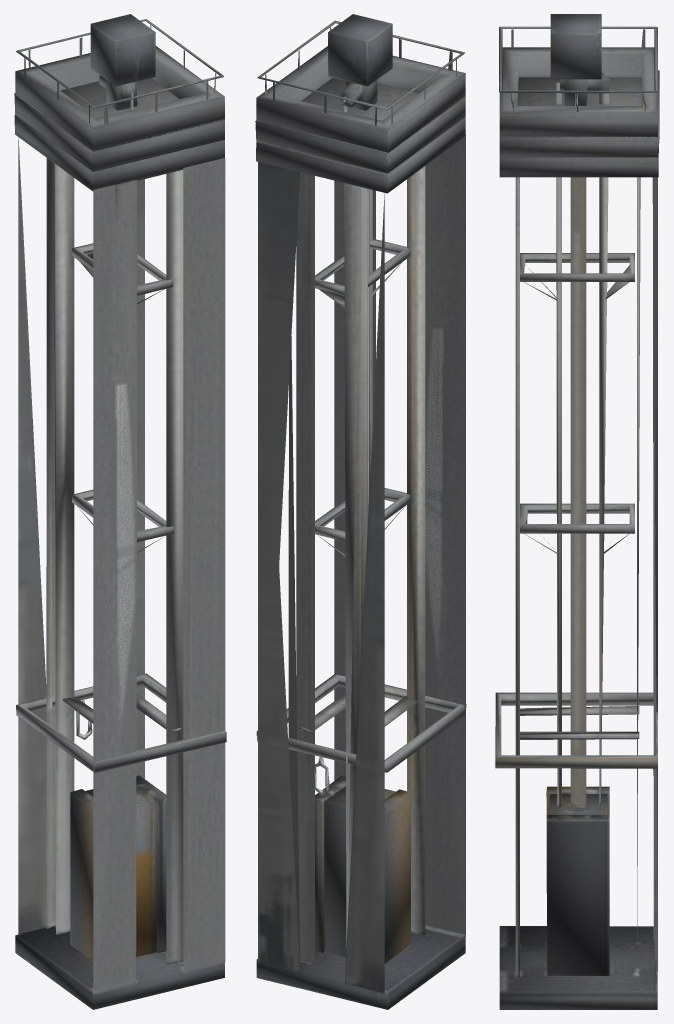
The model's file is elevator_shaft.glb.
3 renders of one model, left to right at view 1: azimuth 30°, elevation 25°; view 2: azimuth 150°, elevation 25°; view 3: azimuth 270°, elevation 25°, orthographic.
Size of the model in its own units: 1.18 by 8 by 1.25.
Materials: 1 (1 with a texture image).
